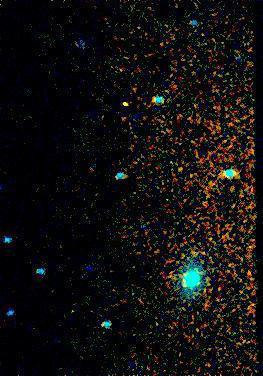star: (110, 88, 140, 118)
